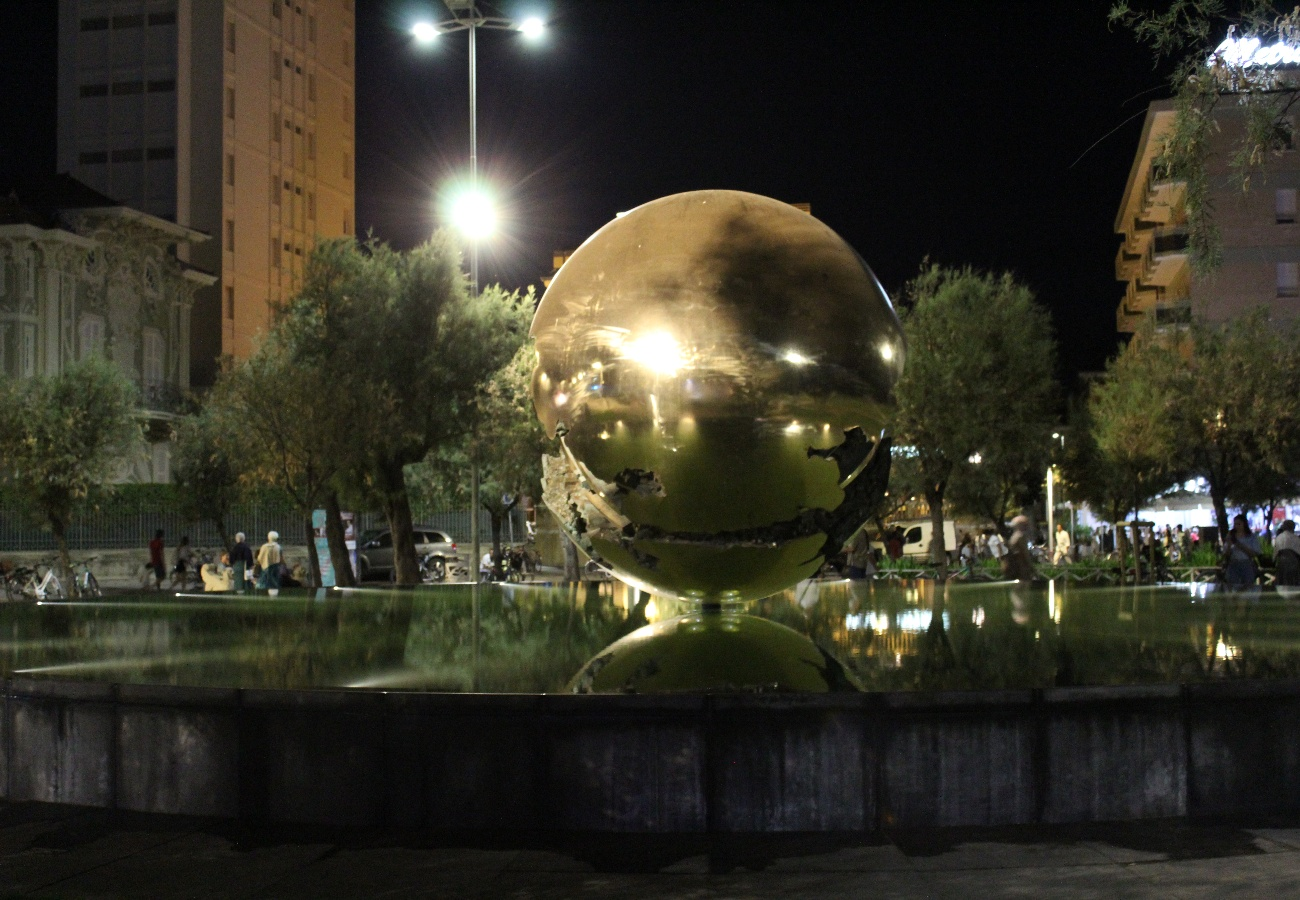Palla di Pomodoro: (528, 189, 900, 607)
